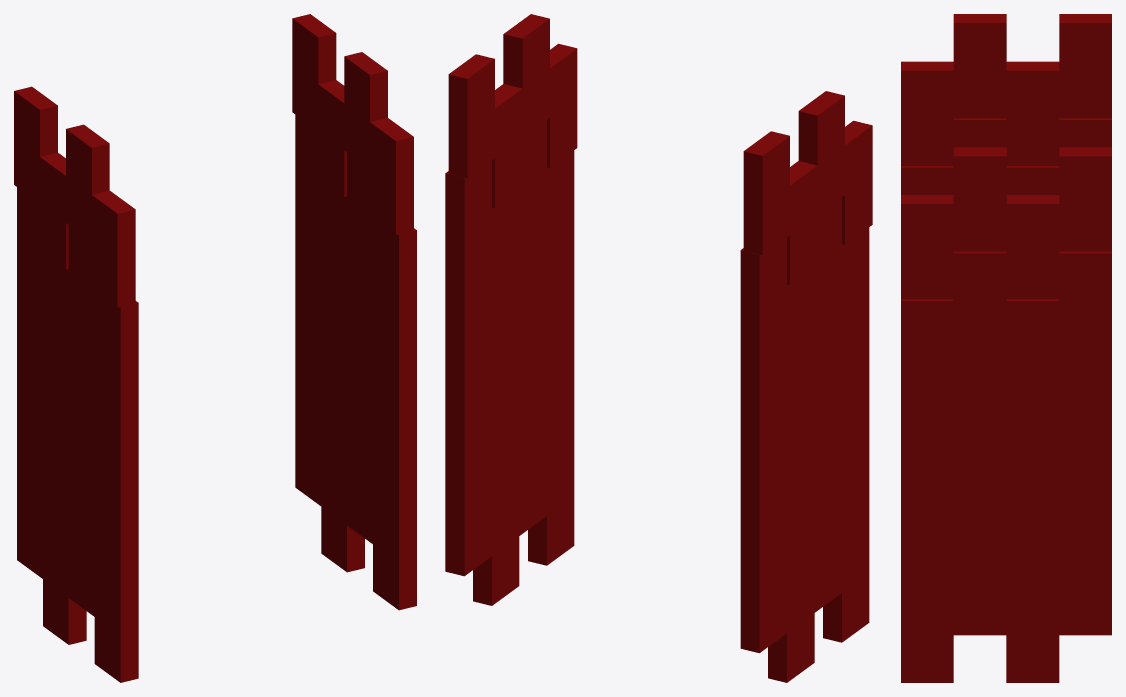
The model's file is nextbricks.dae.
3 views of the same model, side by side, from view 1: azimuth 30°, elevation 25°; view 2: azimuth 150°, elevation 25°; view 3: azimuth 270°, elevation 25° (orthographic). The views are drawn at different scales.
Visible parts, largest first — view 1: Cube.016, Cube.002, Cube.038, Cube.037, Cube.036, Cube.039, Cube.008, Cube.006, Cube.007, Cube.009, Cube.005, Cube.003 (+28 smaller); view 2: Cube.005, Cube.028, Cube.022, Cube.019, Cube.050, Cube.048, Cube.021, Cube.049, Cube.051, Cube.023, Cube.020, Cube.003 (+28 smaller); view 3: Cube.003, Cube.004, Cube.024, Cube.020, Cube.005, Cube.002, Cube.028, Cube.016, Cube.013, Cube.018, Cube.010, Cube.012 (+16 smaller).
Part boxes in pixels (<box>): Cube.016: <box>92,190,135,307</box>; Cube.002: <box>370,118,413,234</box>; Cube.038: <box>94,382,138,494</box>; Cube.037: <box>94,476,138,588</box>; Cube.036: <box>94,570,138,682</box>; Cube.039: <box>94,291,138,400</box>; Cube.008: <box>373,310,416,422</box>; Cube.006: <box>373,497,416,610</box>; Cube.007: <box>373,404,416,516</box>; Cube.009: <box>373,218,416,328</box>; Cube.005: <box>292,14,336,130</box>; Cube.003: <box>344,52,387,168</box>; Cube.005: <box>448,54,494,178</box>; Cube.028: <box>743,131,789,255</box>; Cube.022: <box>445,257,491,376</box>; Cube.019: <box>445,457,491,576</box>; Cube.050: <box>740,334,786,453</box>; Cube.048: <box>740,534,786,653</box>; Cube.021: <box>445,357,491,476</box>; Cube.049: <box>740,434,786,553</box>; Cube.051: <box>740,238,786,354</box>; Cube.023: <box>445,161,491,277</box>; Cube.020: <box>798,91,844,214</box>; Cube.003: <box>503,14,549,137</box>; Cube.003: <box>953,147,1006,251</box>; Cube.004: <box>1006,195,1059,299</box>; Cube.024: <box>1006,61,1059,165</box>; Cube.020: <box>953,14,1006,118</box>; Cube.005: <box>1059,147,1111,251</box>; Cube.002: <box>901,195,953,299</box>; Cube.028: <box>1059,14,1111,118</box>; Cube.016: <box>901,61,953,165</box>; Cube.013: <box>953,251,1006,348</box>; Cube.018: <box>1006,299,1059,396</box>; Cube.010: <box>953,539,1006,635</box>; Cube.012: <box>953,348,1006,444</box>.
Bounding box in the file's own units: 6.66 × 4 × 11.1.
